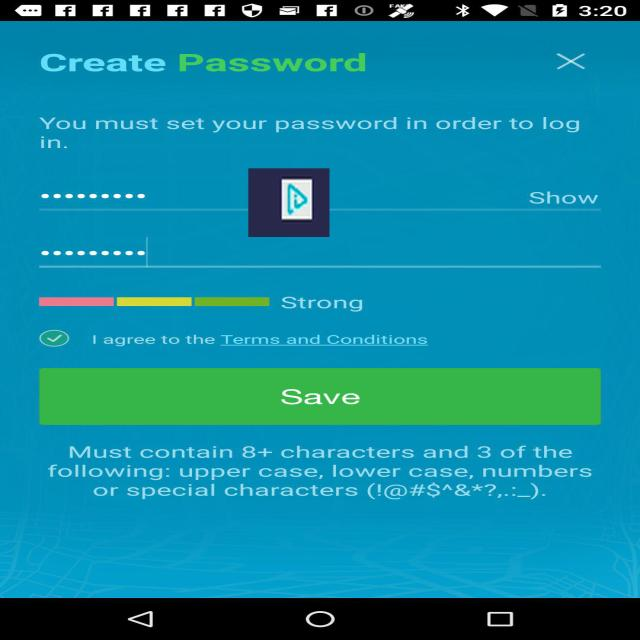sneaking: (248, 168, 329, 237)
